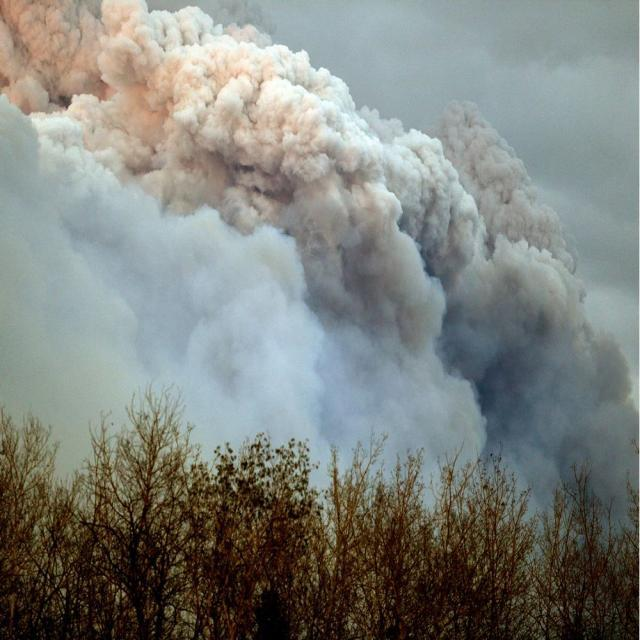Smoke: (13, 3, 640, 483)
